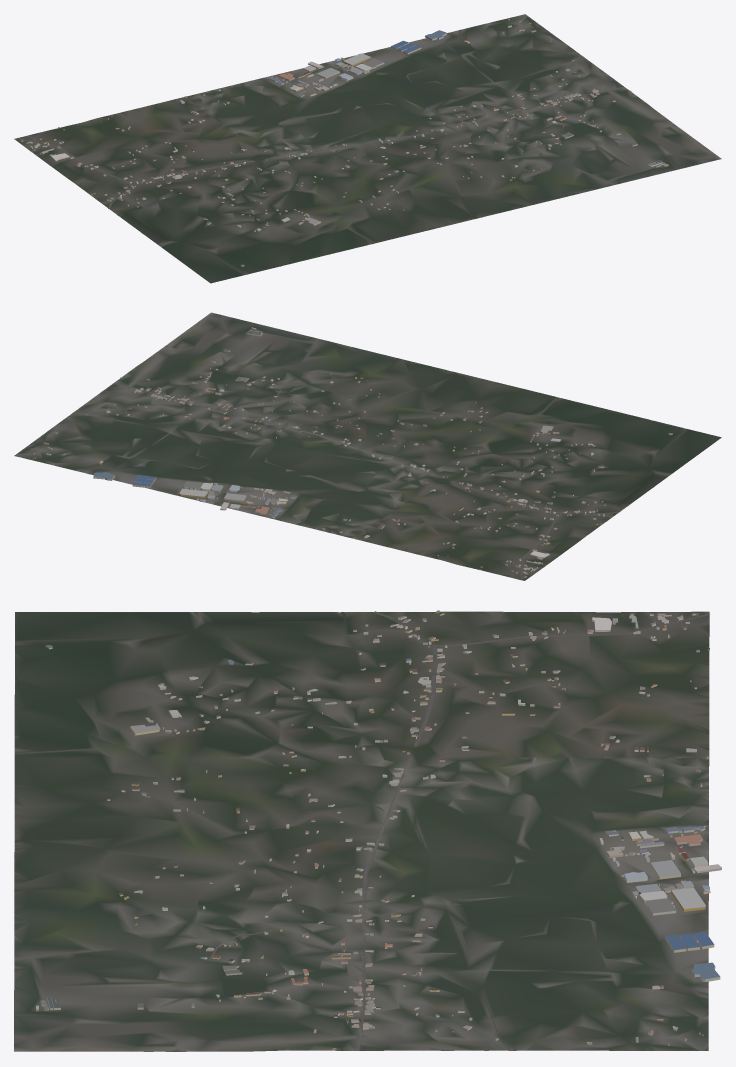
3 views of the same model, one above another, from view 1: azimuth 30°, elevation 25°; view 2: azimuth 150°, elevation 25°; view 3: azimuth 270°, elevation 25° (orthographic). The views are drawn at different scales.
Parts seen in each view (by area): view 1: ground, buildings, roads; view 2: ground, buildings, roads; view 3: ground, buildings, roads.
Boxes of the visible parts, x1,y1,x2,y2 form: ground: (14, 14, 721, 283); buildings: (20, 18, 668, 267); roads: (17, 86, 624, 208); ground: (14, 312, 721, 580); buildings: (30, 327, 672, 577); roads: (113, 378, 619, 580); ground: (14, 611, 709, 1051); buildings: (36, 610, 721, 1050); roads: (208, 611, 709, 1050).
Bounding box in the file's own units: 4205 × 22.84 × 2855.
